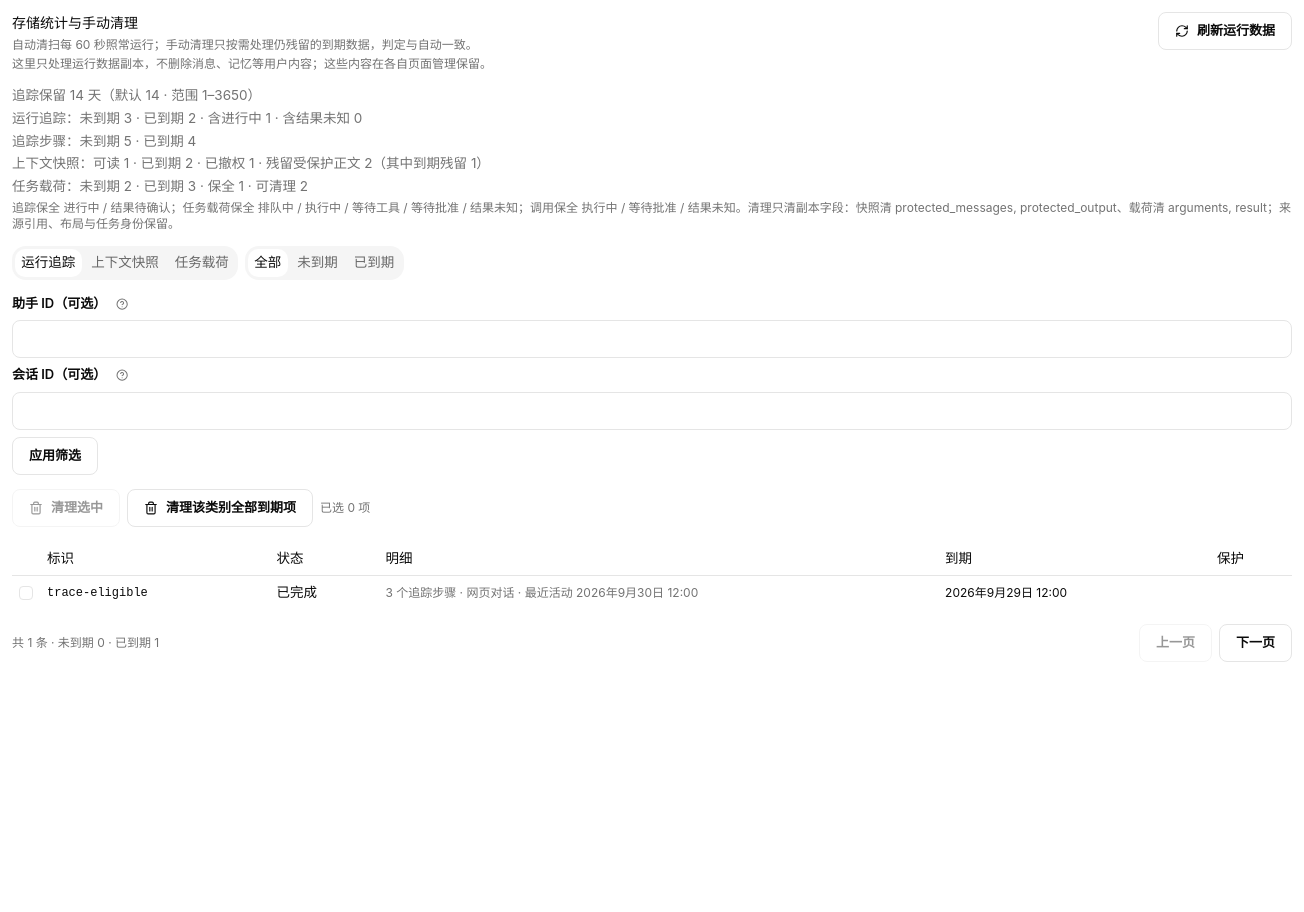
Test: runtime storage panel › pages 50 rows at a time forward and back through the cursor trail
Expected: the button "上一页" is disabled, x1=1139 y1=624 x2=1212 y2=662
What coordinates should you click on to do the following:
click the button "下一页"
I would click on:
 (1256, 643)
Its box is x1=1219 y1=624 x2=1292 y2=662.
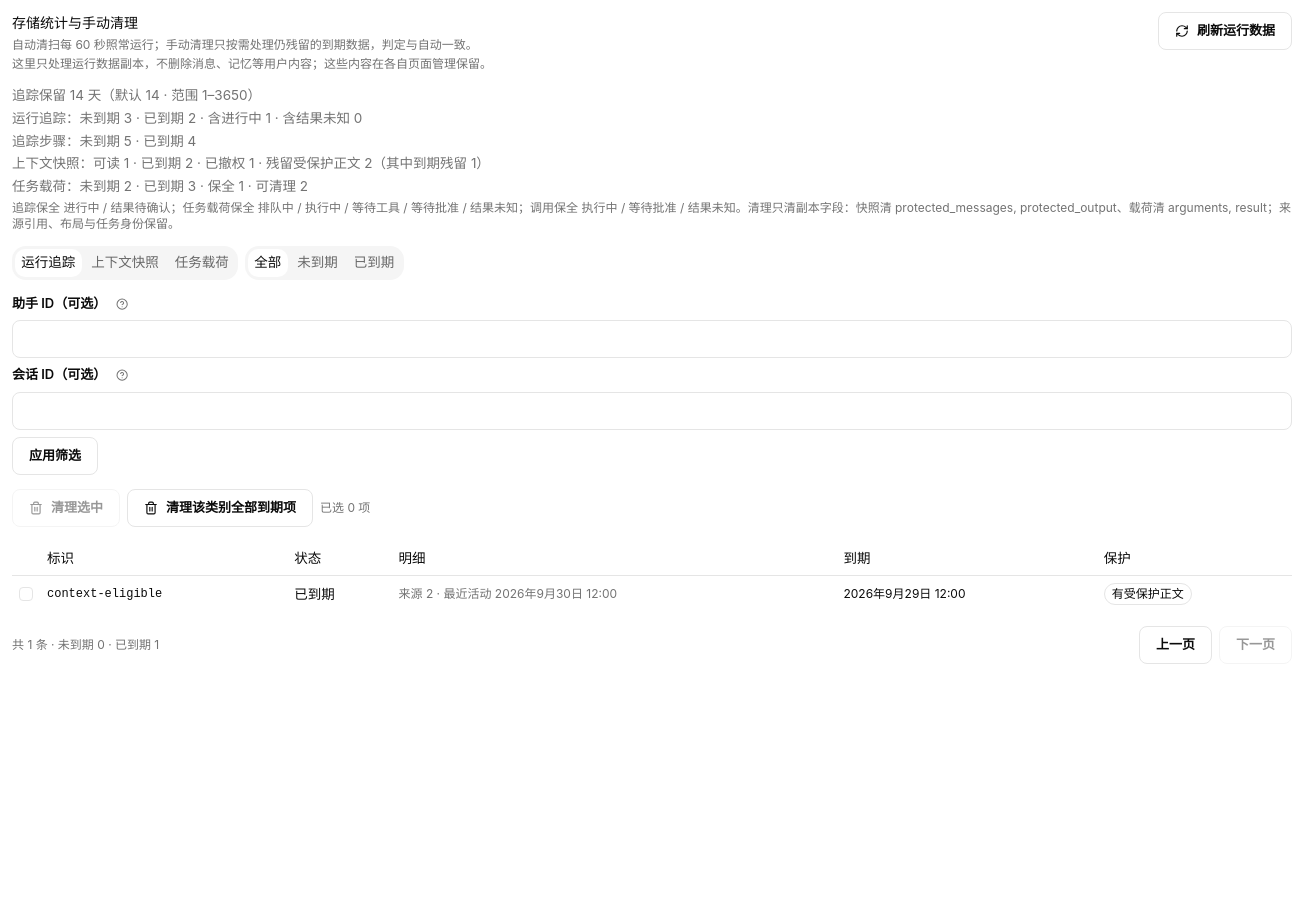
Expected: the text "context-eligible" is shown, x1=40 y1=576 x2=287 y2=612
What coordinates should you click on to do the following:
click the button "上一页"
I would click on:
 (1176, 645)
Its box is x1=1139 y1=626 x2=1212 y2=664.
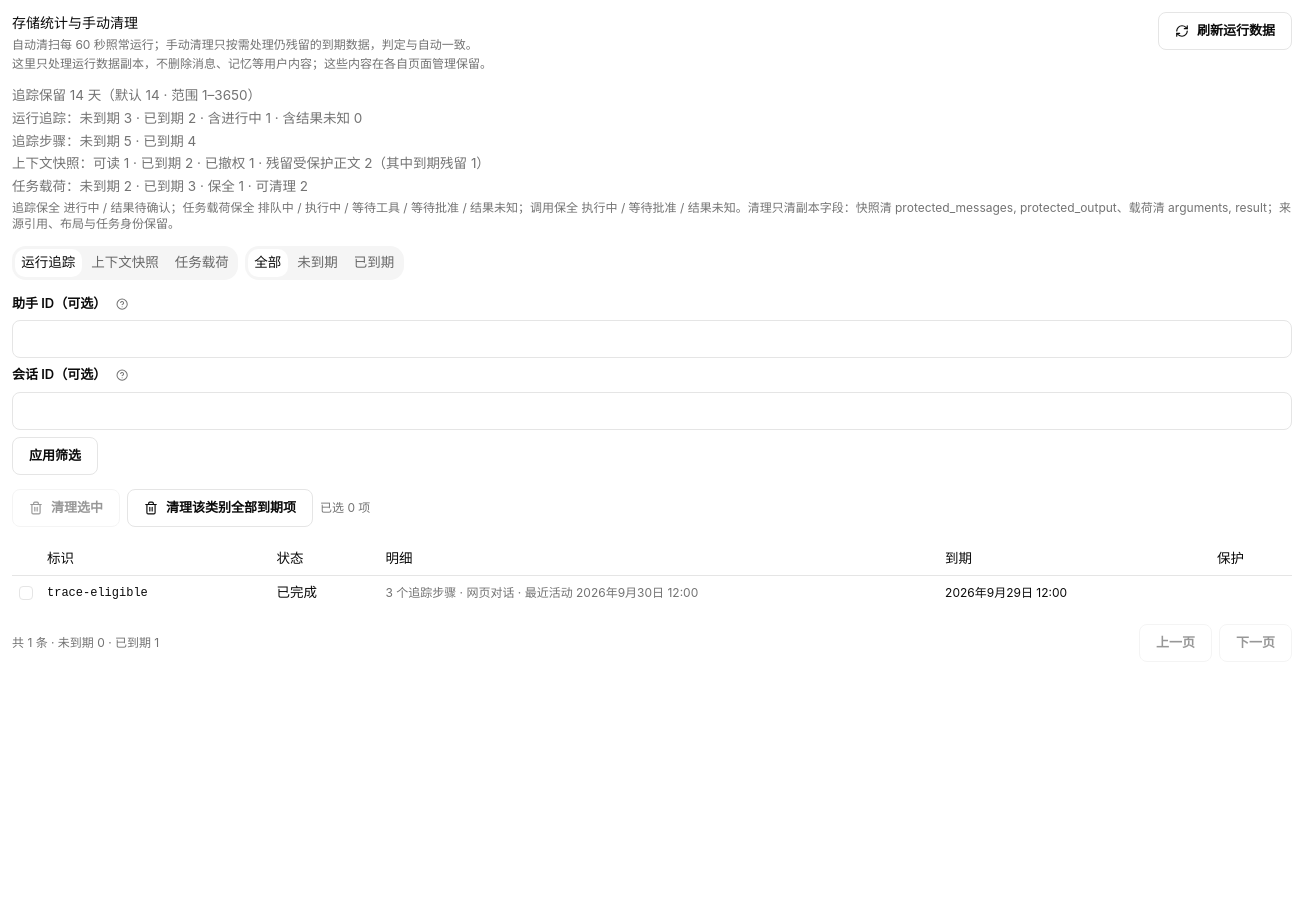
Expected: the text "trace-eligible" is shown, x1=40 y1=576 x2=270 y2=610
